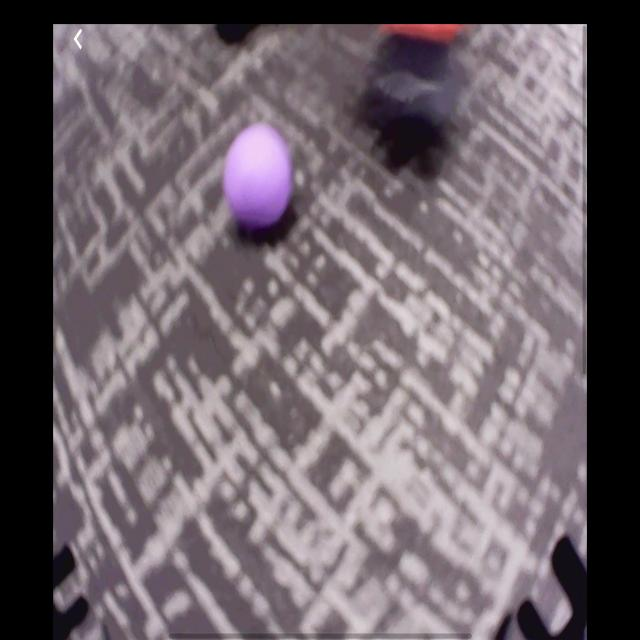ball: (224, 123, 295, 235)
